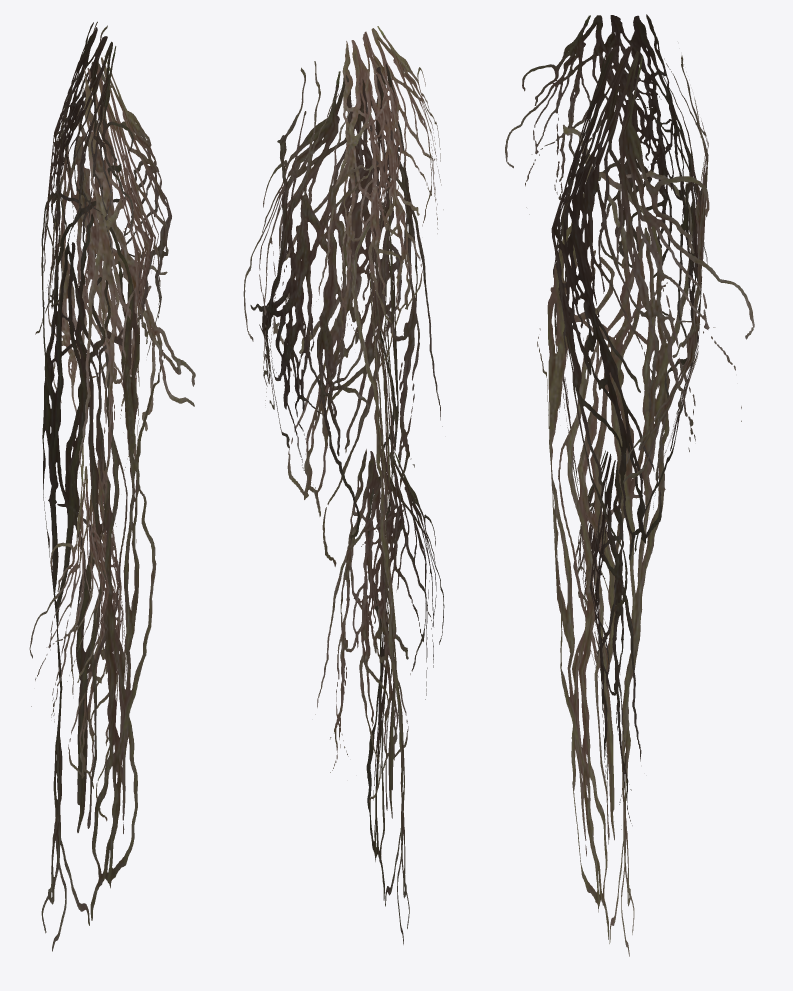
Rendered from SM_Fol_Ivy_Hanging2.fbx.
3 renders of one model, left to right at view 1: azimuth 30°, elevation 25°; view 2: azimuth 150°, elevation 25°; view 3: azimuth 270°, elevation 25°, orthographic. The views are drawn at different scales.
Visible parts, largest first — view 1: SM_Fol_Ivy_Hanging2_LOD0; view 2: SM_Fol_Ivy_Hanging2_LOD0; view 3: SM_Fol_Ivy_Hanging2_LOD0.
Boxes of the visible parts, x1,y1,x2,y2 form: SM_Fol_Ivy_Hanging2_LOD0: (29, 21, 195, 951); SM_Fol_Ivy_Hanging2_LOD0: (243, 26, 444, 944); SM_Fol_Ivy_Hanging2_LOD0: (505, 14, 754, 956).
Bounding box in the file's own units: 46.52 × 54.86 × 215.
1 material, 1 textured.
